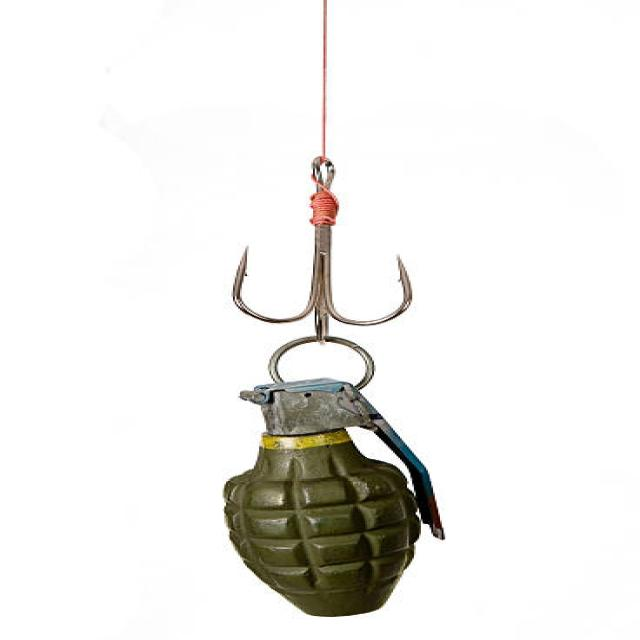grenade: (223, 332, 460, 627)
